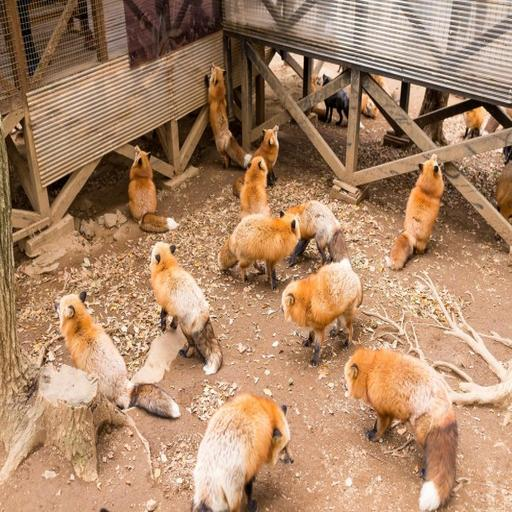Fox: (343, 343, 467, 510), (42, 286, 182, 425), (186, 391, 299, 509), (134, 239, 226, 379), (278, 259, 376, 370), (382, 155, 456, 270), (218, 207, 312, 288), (199, 59, 250, 169), (121, 149, 182, 235), (271, 199, 342, 269), (233, 151, 280, 239), (228, 127, 289, 188), (455, 88, 486, 142), (490, 156, 512, 225)
